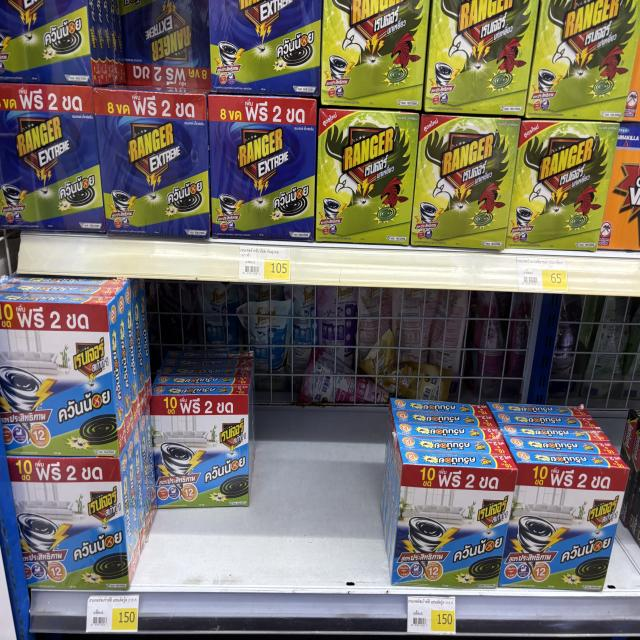empty_shelf: (110, 283, 625, 463), (122, 447, 401, 587), (94, 0, 209, 91)
